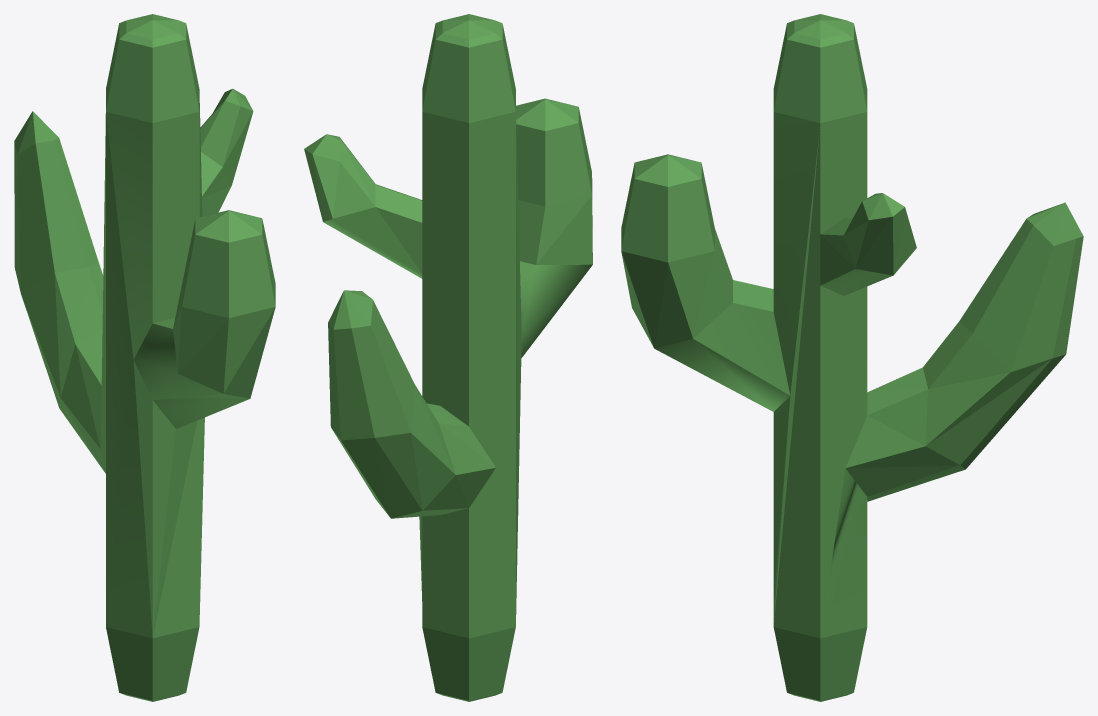
File: cactus.FBX
3 renders of one model, left to right at view 1: azimuth 30°, elevation 25°; view 2: azimuth 150°, elevation 25°; view 3: azimuth 270°, elevation 25°, orthographic.
Parts seen in each view (by area): view 1: Cactus; view 2: Cactus; view 3: Cactus.
Part boxes in pixels (x1,y1,x2,y2): Cactus: (14,14,275,701); Cactus: (304,14,592,701); Cactus: (621,14,1083,701).
Size of the model in its own units: 6.49 by 23.5 by 14.58.
